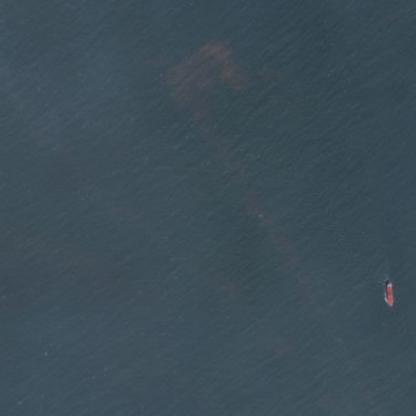ship: (381, 273, 395, 309)
